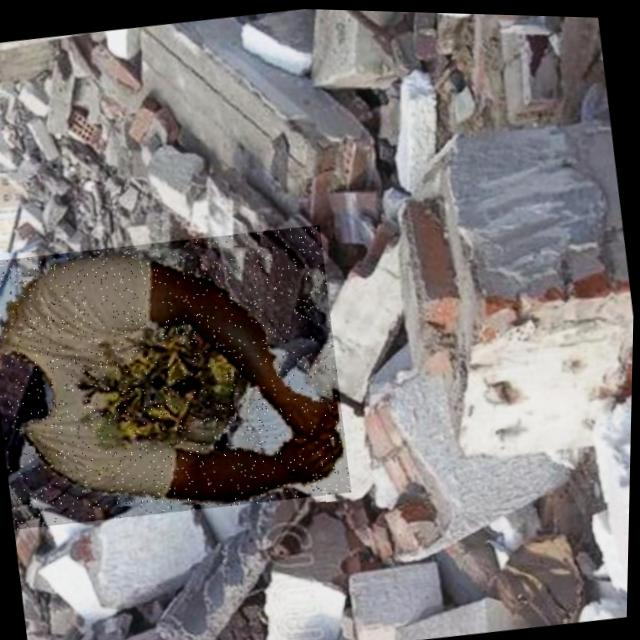Person in Rubble: (0, 214, 357, 536)
